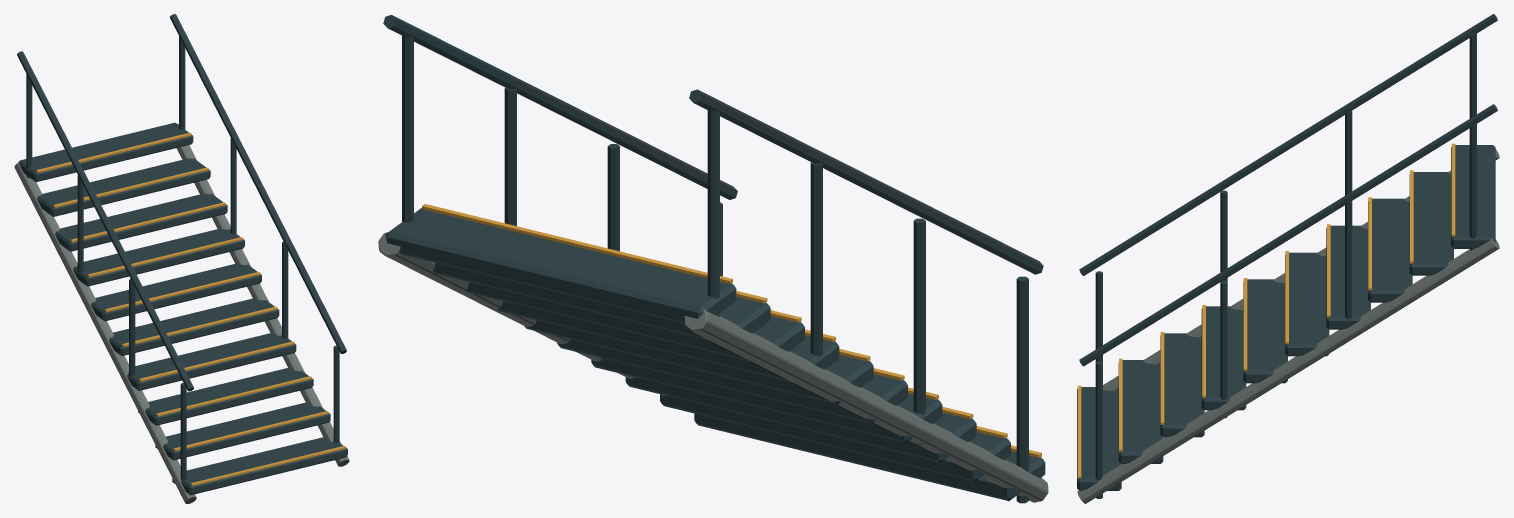
File: stairs.glb
3 views of the same model, side by side, from view 1: azimuth 30°, elevation 25°; view 2: azimuth 150°, elevation 25°; view 3: azimuth 270°, elevation 25° (orthographic). The views are drawn at different scales.
Visible parts, largest first — view 1: stairs__stairs__steel, stairs__stairs__amber, stairs__stairs__hardware; view 2: stairs__stairs__steel, stairs__stairs__hardware, stairs__stairs__amber; view 3: stairs__stairs__steel, stairs__stairs__hardware, stairs__stairs__amber.
Boxes of the visible parts, box(x1,y1,x2,y2) form: stairs__stairs__steel: box(17, 14, 347, 495); stairs__stairs__amber: box(36, 132, 346, 486); stairs__stairs__hardware: box(14, 123, 349, 503); stairs__stairs__steel: box(383, 15, 1045, 503); stairs__stairs__hardware: box(378, 232, 1048, 502); stairs__stairs__amber: box(422, 204, 1041, 457); stairs__stairs__steel: box(1077, 14, 1497, 498); stairs__stairs__hardware: box(1077, 149, 1499, 503); stairs__stairs__amber: box(1077, 143, 1455, 478).
Bounding box in the file's own units: 1.55 × 2.97 × 2.85.
